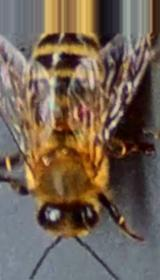varroa_mite: (62, 94, 101, 128)
